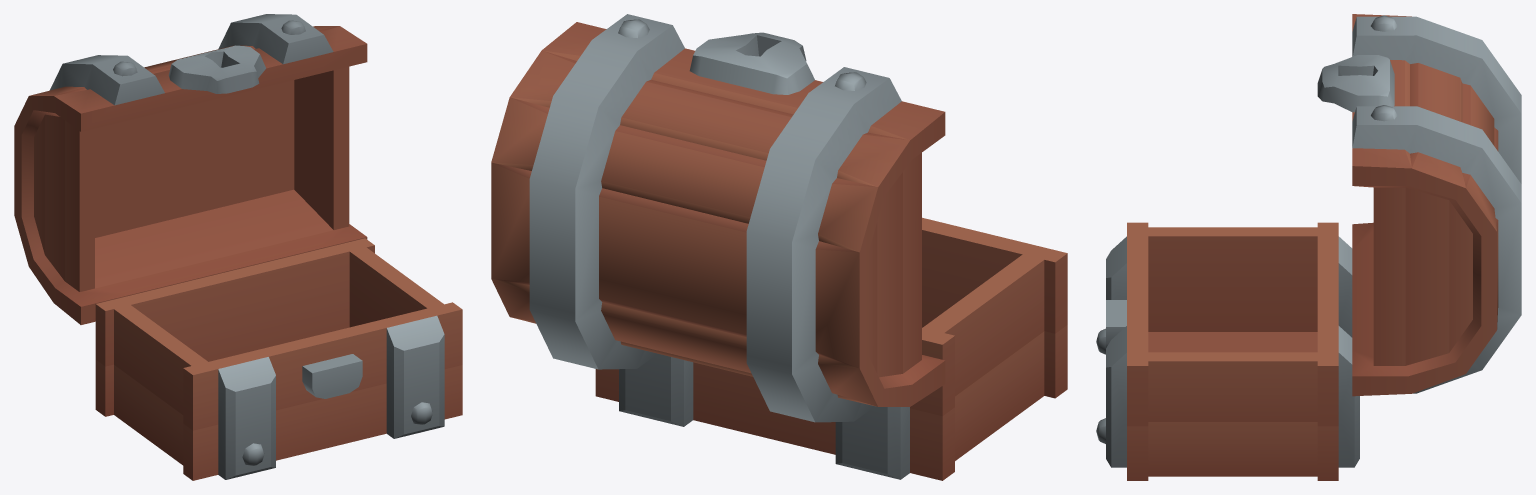
The model's file is Chest.glb.
3 views of the same model, side by side, from view 1: azimuth 30°, elevation 25°; view 2: azimuth 150°, elevation 25°; view 3: azimuth 270°, elevation 25° (orthographic). The views are drawn at different scales.
Parts seen in each view (by area): view 1: chest_lid, chest; view 2: chest_lid, chest; view 3: chest, chest_lid.
Part boxes in pixels (x1=…): chest_lid: x1=14, y1=14, x2=367, y2=324; chest: x1=95, y1=238, x2=462, y2=480; chest_lid: x1=491, y1=14, x2=945, y2=422; chest: x1=595, y1=217, x2=1067, y2=480; chest: x1=1096, y1=222, x2=1359, y2=480; chest_lid: x1=1317, y1=14, x2=1521, y2=396.
Size of the model in its own units: 1.7 by 1.81 by 2.01.
Materials: 1 (1 with a texture image).
